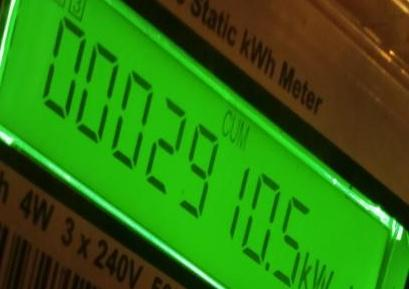.: (300, 251, 359, 289)
0: (262, 259, 272, 272)
1: (75, 44, 121, 145), (112, 65, 156, 169), (40, 19, 84, 122), (240, 169, 284, 263)
2: (226, 164, 251, 241)
3: (145, 97, 187, 196)
6: (272, 194, 310, 286)
:: (178, 124, 221, 217)
